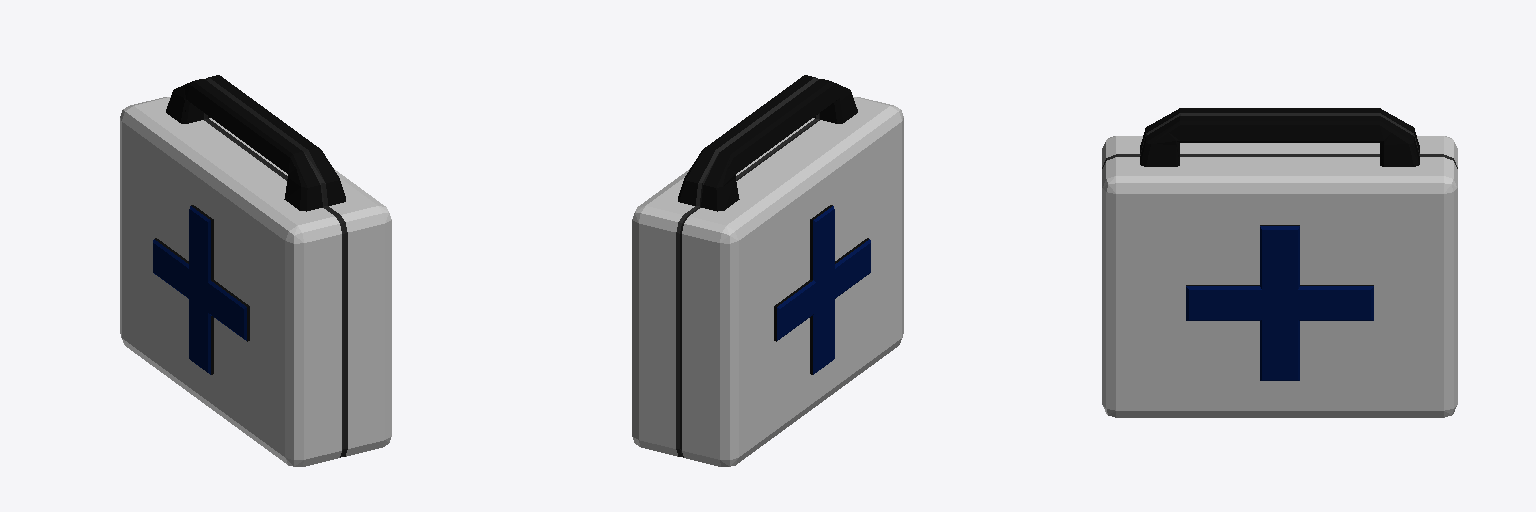
File: medkit.obj
3 renders of one model, left to right at view 1: azimuth 30°, elevation 25°; view 2: azimuth 150°, elevation 25°; view 3: azimuth 270°, elevation 25°, orthographic.
Parts seen in each view (by area): view 1: Cube.001; view 2: Cube.001; view 3: Cube.001.
Boxes of the visible parts, x1,y1,x2,y2 form: Cube.001: [120, 75, 391, 466]; Cube.001: [632, 75, 903, 466]; Cube.001: [1102, 108, 1457, 417].
Size of the model in its own units: 1.21 by 2.85 by 3.24.